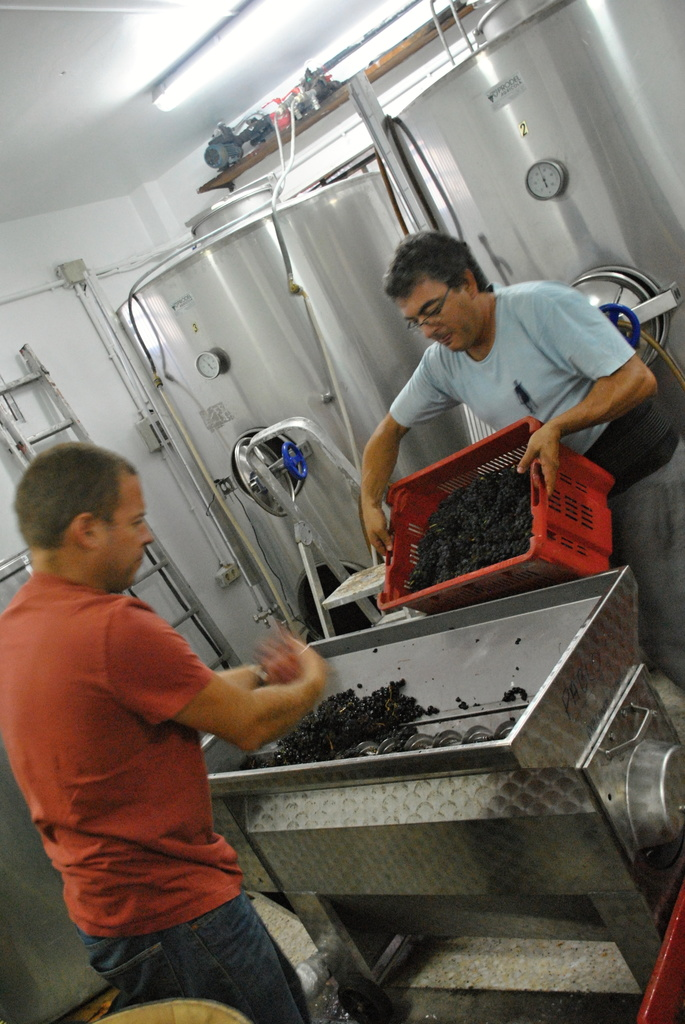face: (102, 467, 151, 587)
